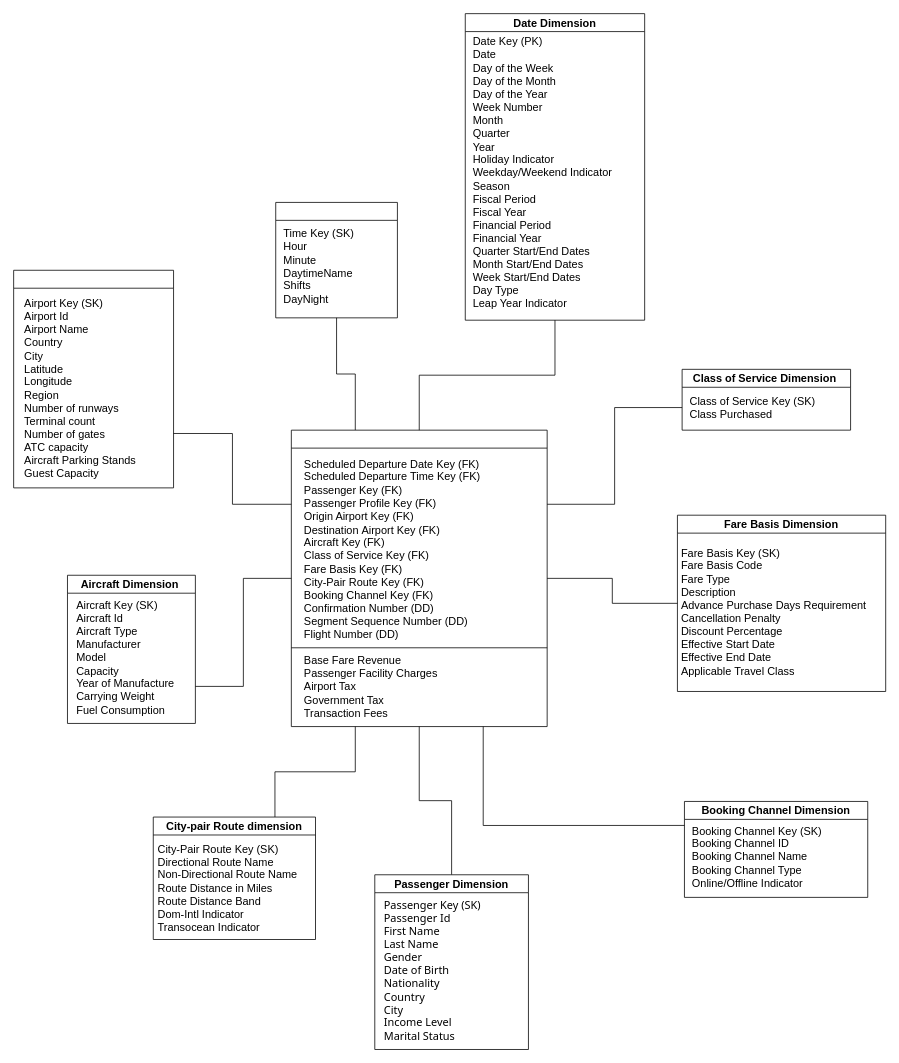
Image size: 899x1063. Some labels were removed from this diagram. The box of each missing label's shape, as (x1, y1, x2, y2) in pixels:
Airport Dimension: (13, 269, 174, 488)
Reservations Fact: (291, 429, 547, 727)
Time Dimension: (275, 202, 397, 318)
